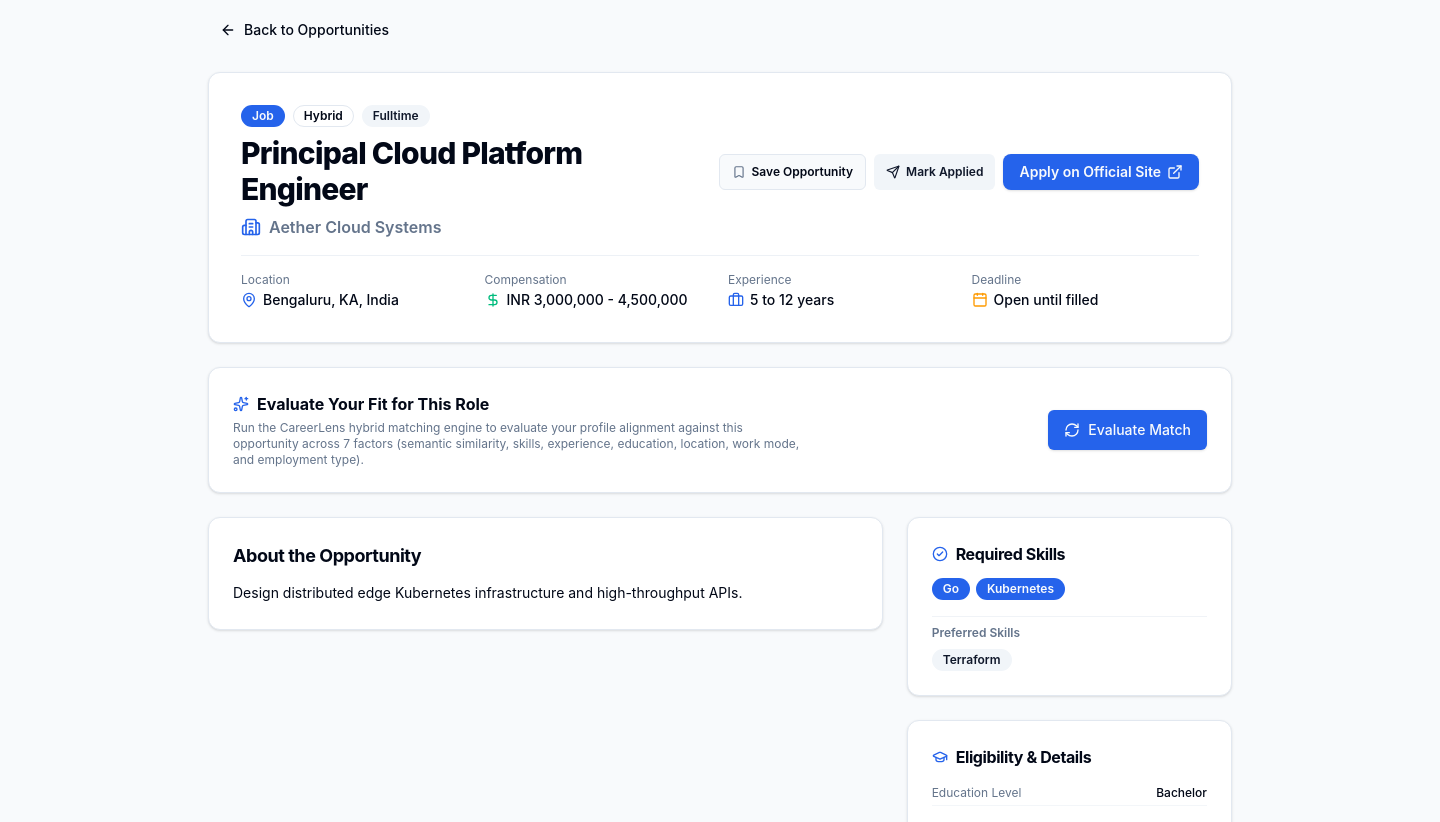
End-to-End User Journeys and Acceptance Testing › Journey 1: Evaluates hybrid match on Opportunity Detail, views score breakdowns and saves application
The image size is (1440, 822).
expect the heading "Principal Cloud Platform Engineer" is shown: met, box [241, 135, 582, 207]
expect the text "Aether Cloud Systems" is shown: met, box [269, 215, 442, 239]
// Trigger Match Evaluation
Click the button "Evaluate Match" at (1128, 430), box [1048, 410, 1207, 450]
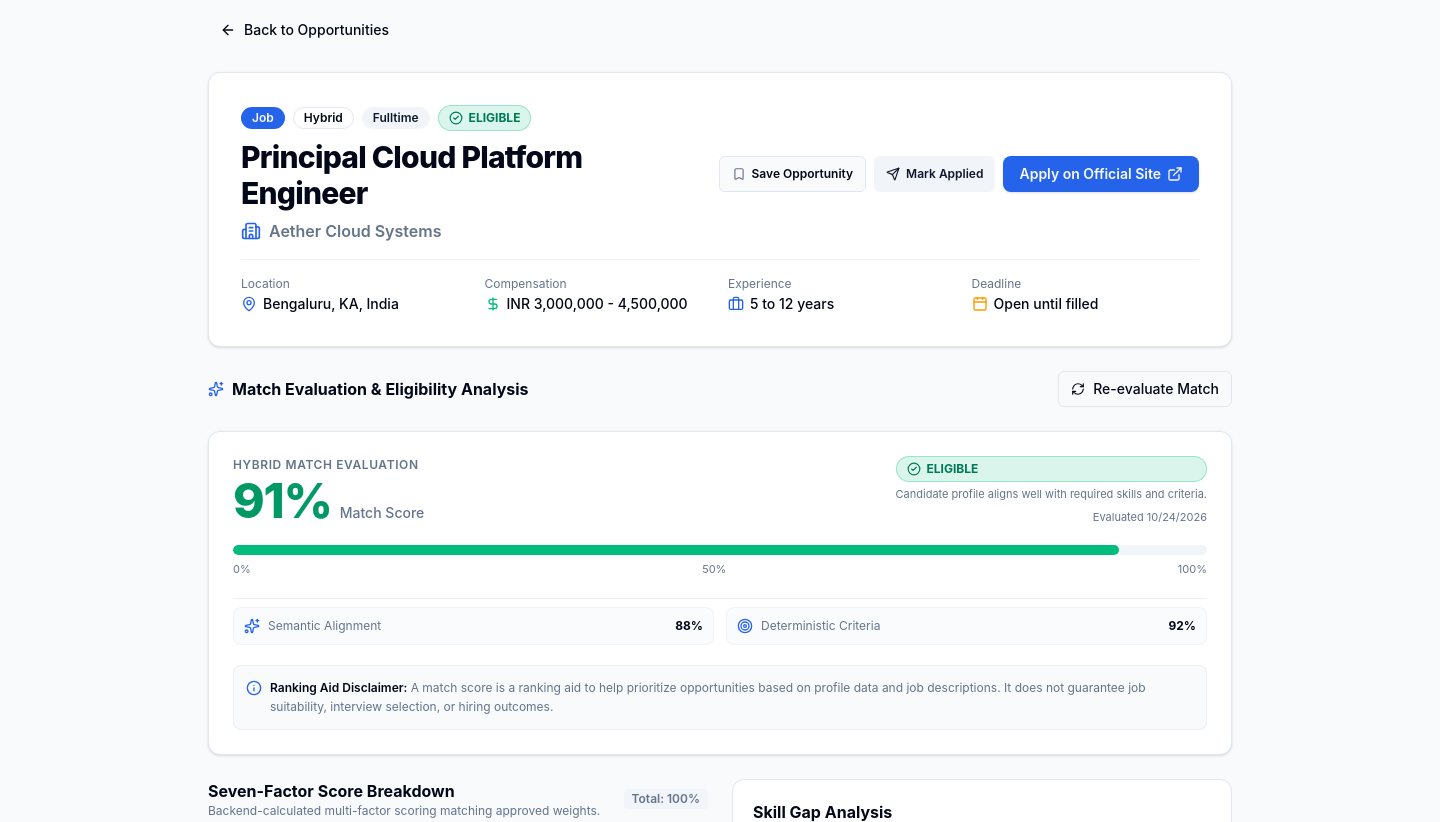
expect the text "91%" is shown: met, box [233, 476, 332, 524]
// Save Application
Click the button "Save Opportunity" at (792, 174), box [719, 156, 866, 192]
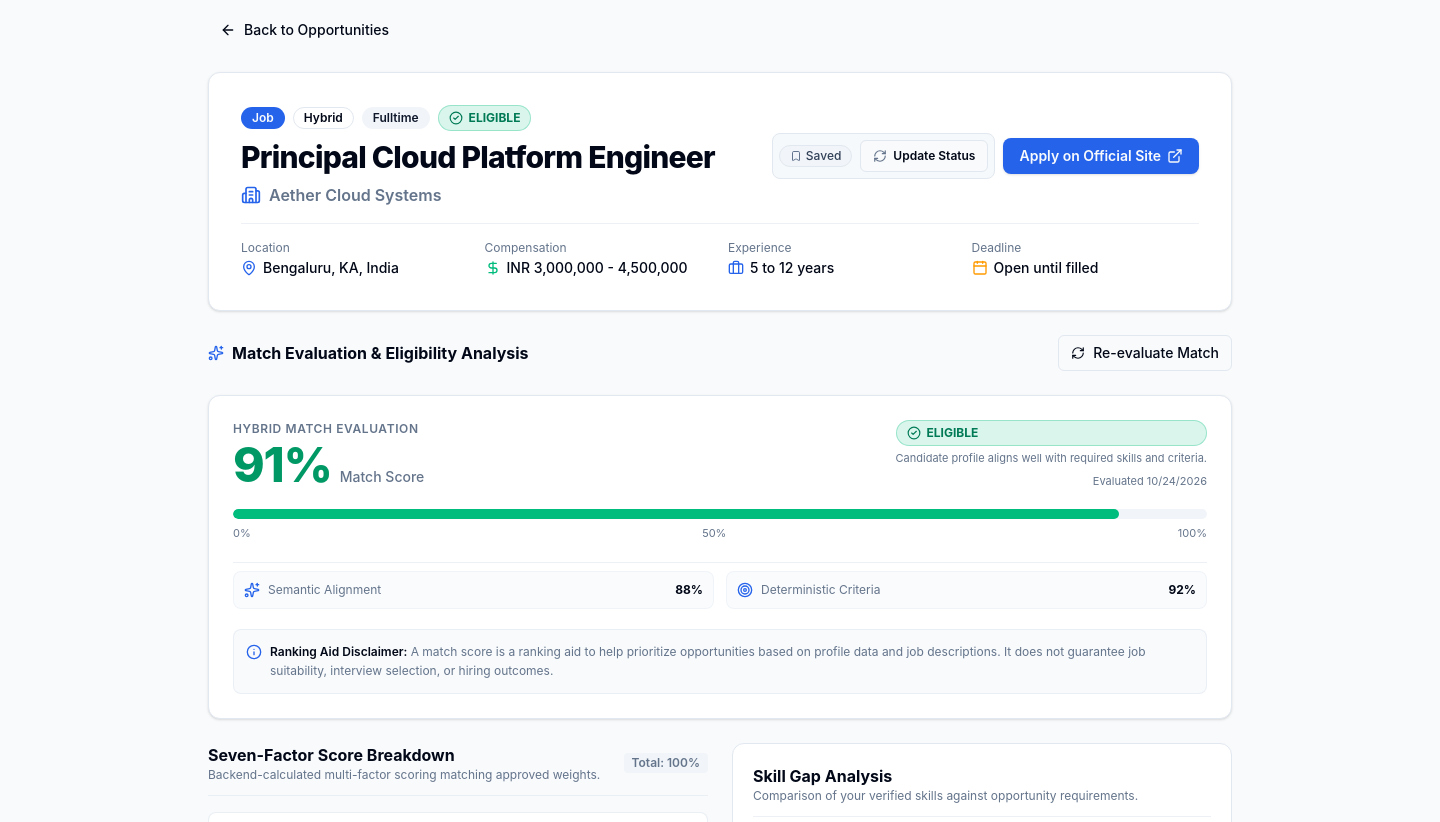
expect the button "Update Status" is shown: met, box [860, 140, 988, 172]
